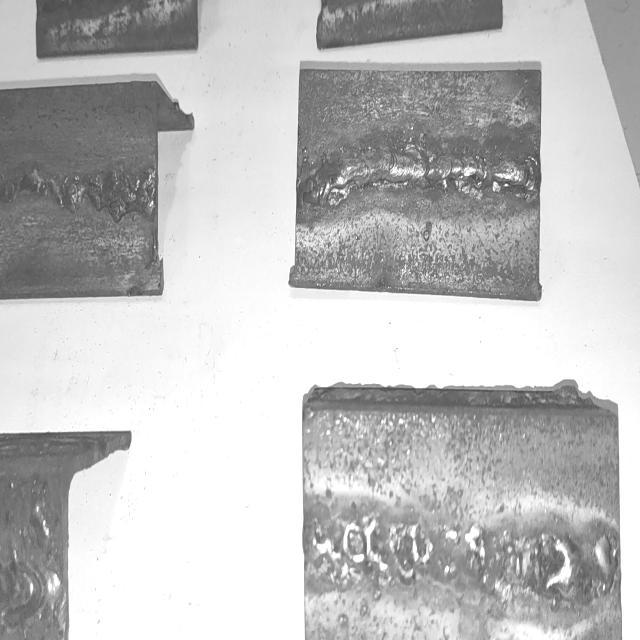Defect: (310, 518, 510, 598), (520, 524, 614, 606), (2, 556, 64, 629)
Welding Line: (301, 151, 539, 209), (0, 165, 156, 218)
Workpiece: (300, 401, 622, 640), (292, 63, 542, 302), (0, 77, 161, 297)
